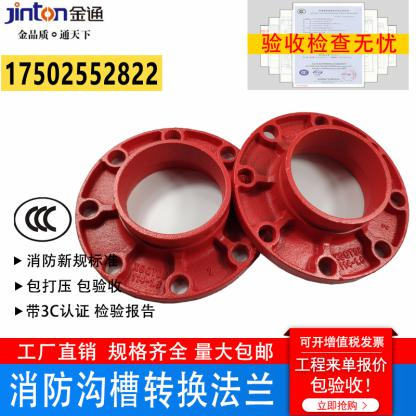FOD: (74, 124, 262, 302), (231, 110, 413, 290)
